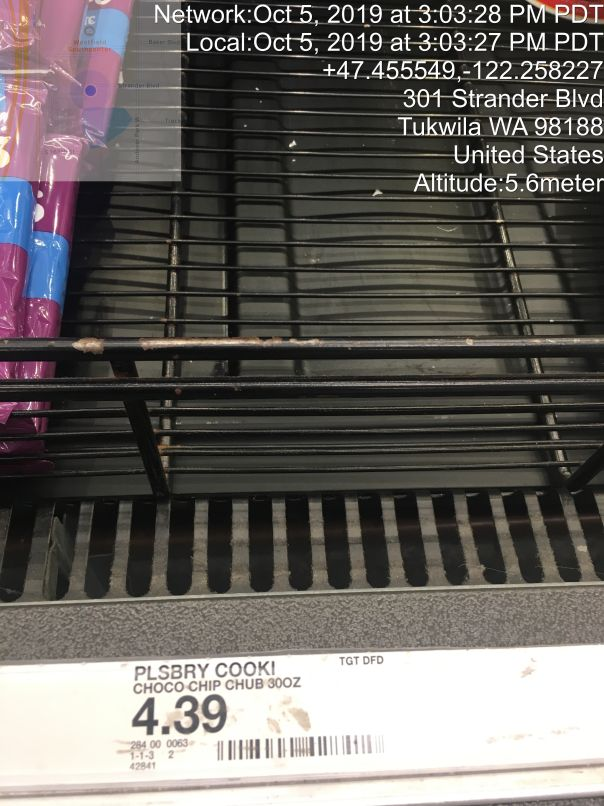Label: (114, 653, 398, 773)
Location: (390, 85, 604, 166)
Time: (149, 1, 604, 55)
Void: (138, 70, 476, 457)
